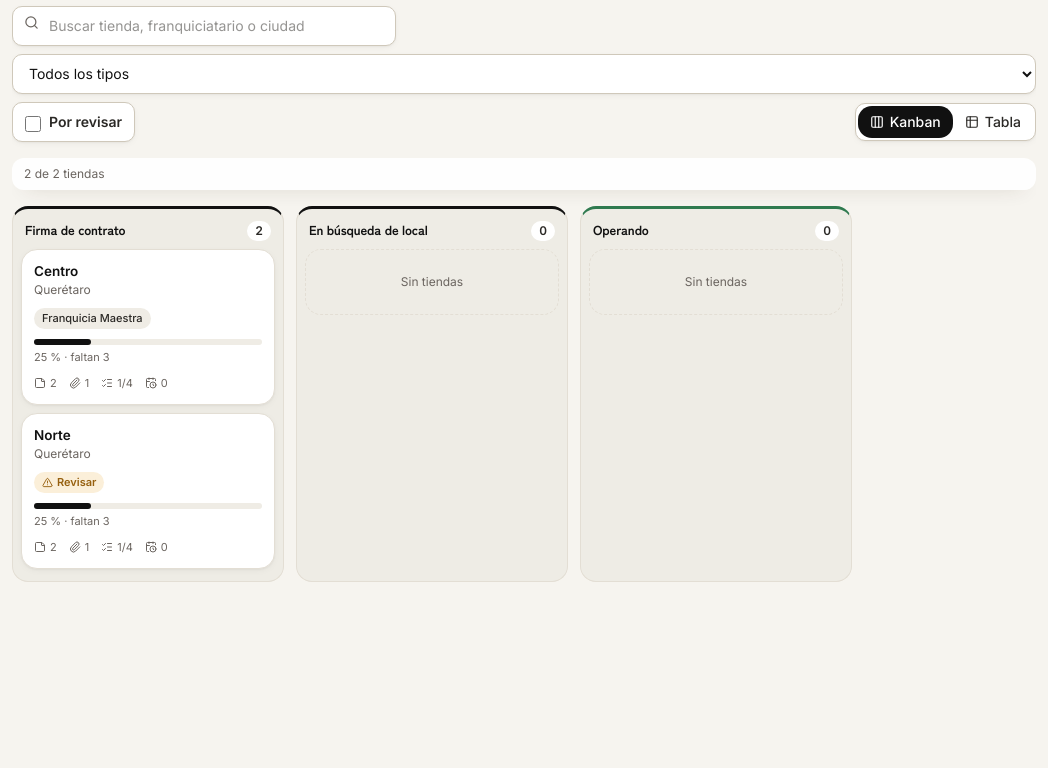
Test case: filtra sin perder las tarjetas ocultas y respeta el modo de solo lectura
The width and height of the screenshot is (1048, 768).
Click the checkbox labelled "Por revisar" at (33, 124), box [25,116,41,132]
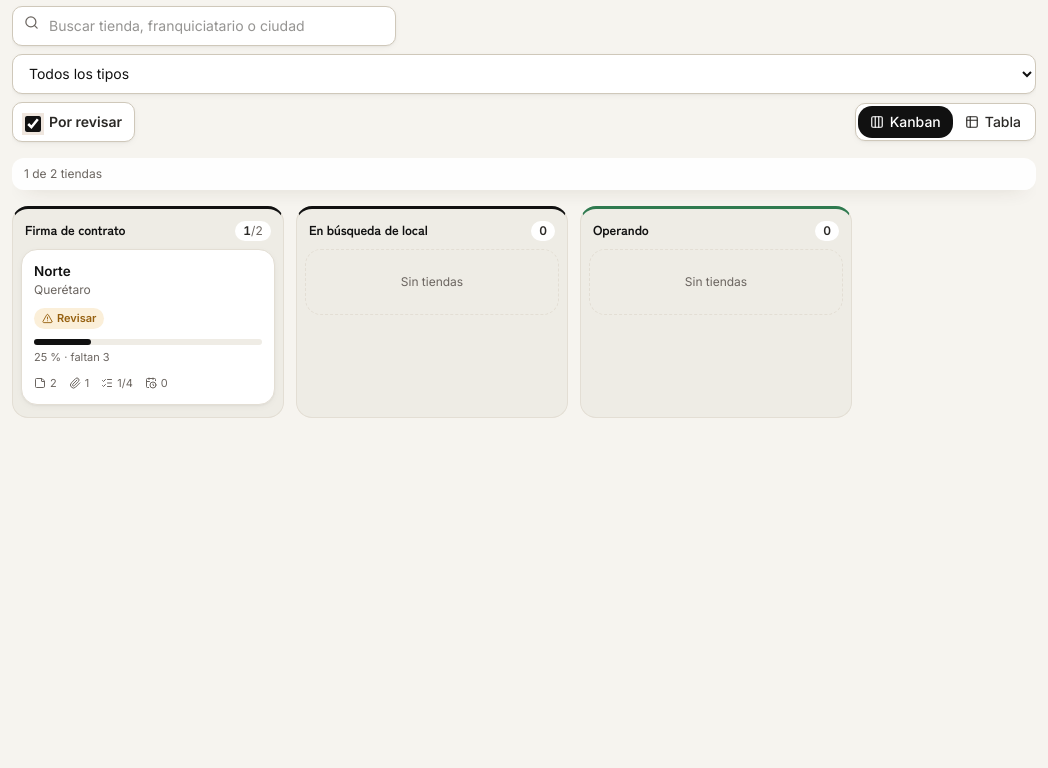
expect the link "Norte" is shown: met, box [34,263,71,279]
expect the link "Centro" is gone: met
expect the text "1 de 2 tiendas" is shown: met, box [12,158,1036,190]
Click the button "Tabla" at (993, 122), box [953,106,1033,138]
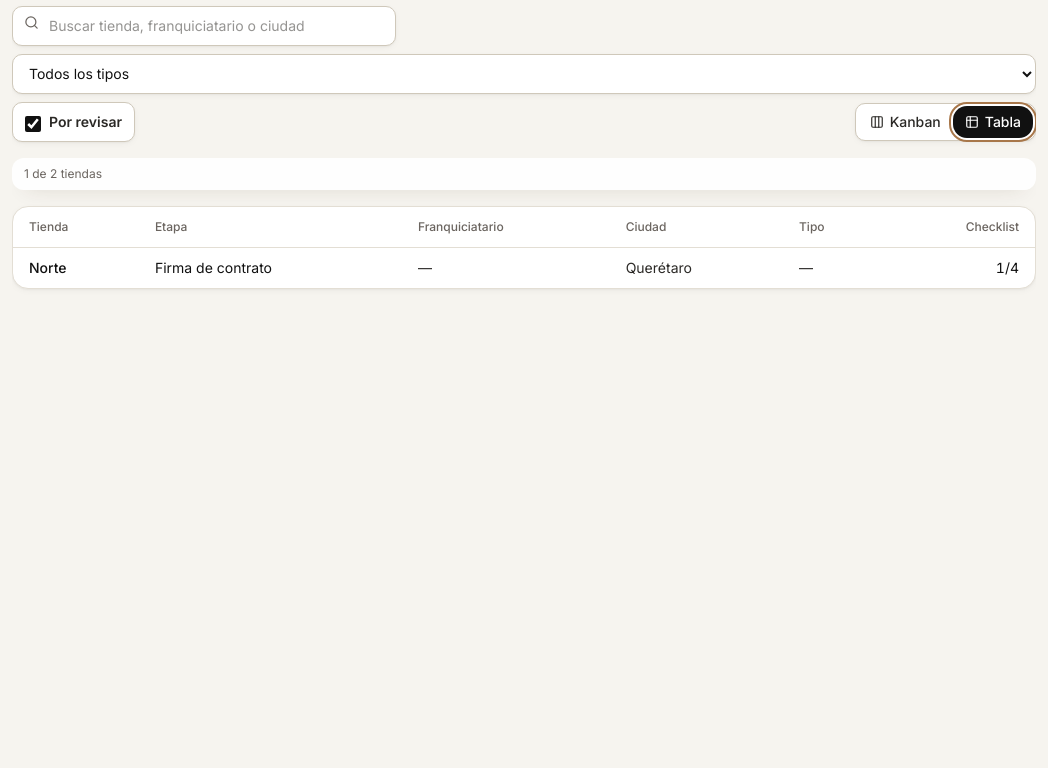
expect the table shows "Norte": met, box [29,259,66,276]
